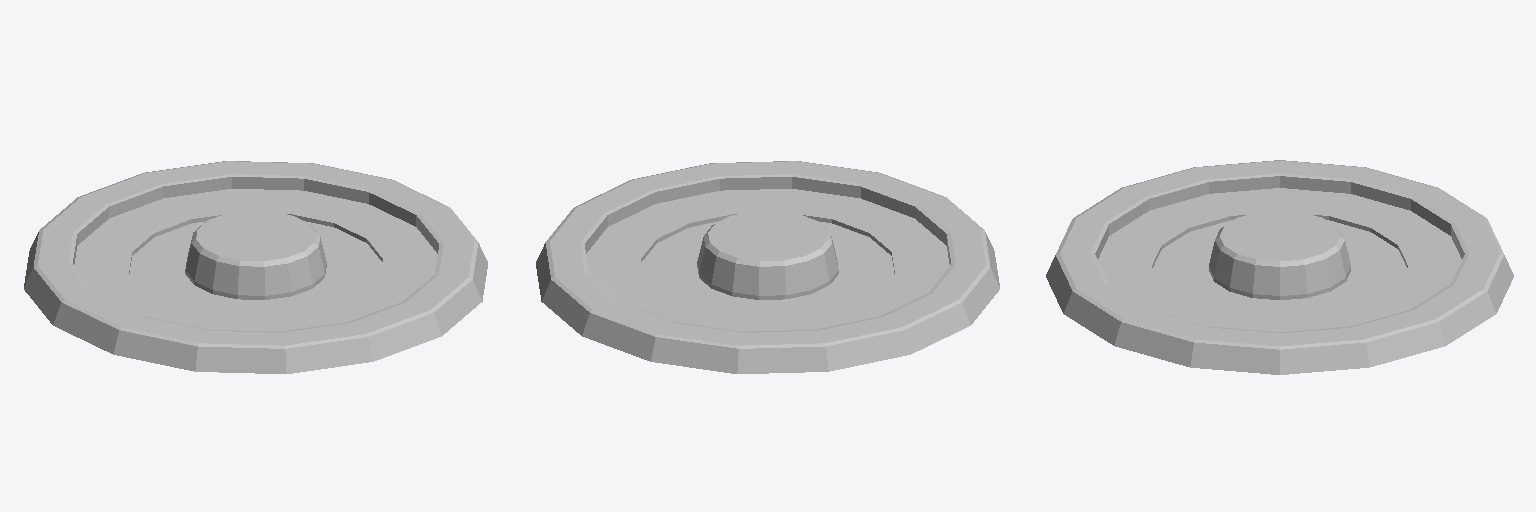
Rendered from socket.obj.
The picture shows the model from 3 angles: view 1: azimuth 30°, elevation 25°; view 2: azimuth 150°, elevation 25°; view 3: azimuth 270°, elevation 25°; orthographic projection.
Visible parts, largest first — view 1: socket; view 2: socket; view 3: socket.
Boxes of the visible parts, box(x1,y1,x2,y2) form: socket: box(24, 161, 487, 373); socket: box(536, 161, 999, 373); socket: box(1046, 160, 1513, 374).
Bounding box in the file's own units: 20 × 1.89 × 20.